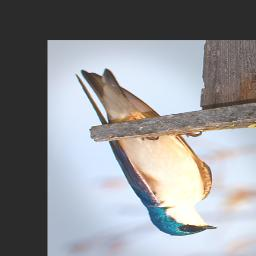Swallow: (74, 68, 218, 237)
